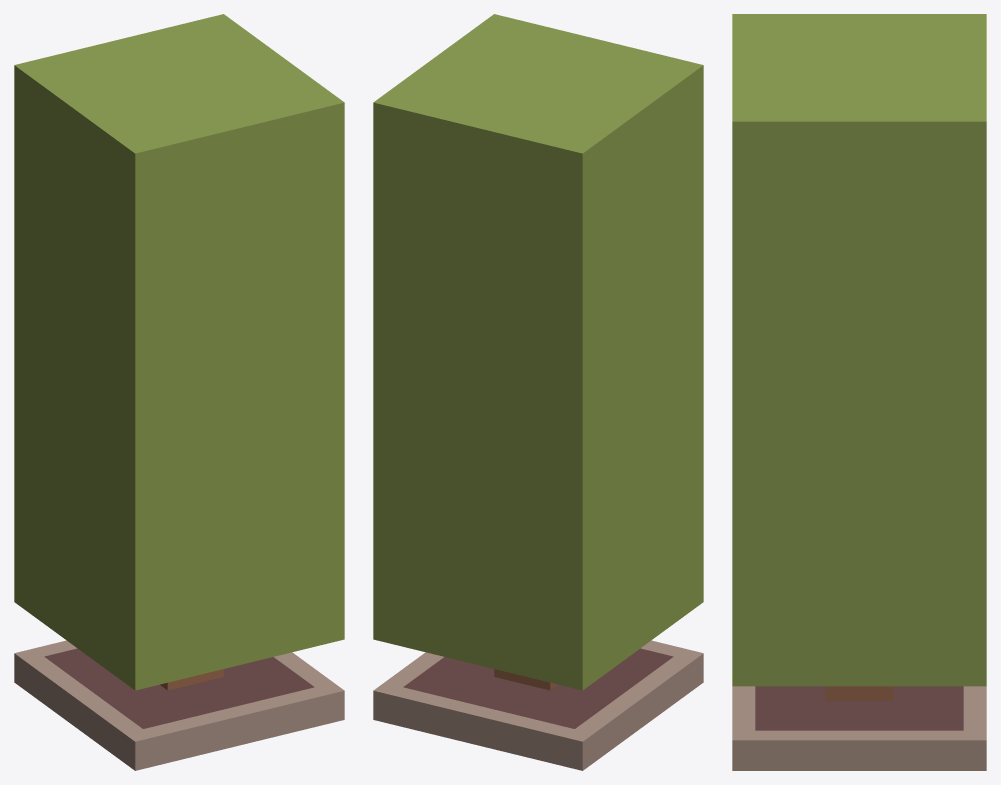
File: Tree3.fbx
The picture shows the model from 3 angles, left to right: view 1: azimuth 30°, elevation 25°; view 2: azimuth 150°, elevation 25°; view 3: azimuth 270°, elevation 25°; orthographic projection. The views are drawn at different scales.
Visible parts, largest first — view 1: Tree3; view 2: Tree3; view 3: Tree3.
Part boxes in pixels (x1,y1,x2,y2): Tree3: (14,14,344,770); Tree3: (373,14,703,770); Tree3: (732,14,986,770).
Size of the model in its own units: 2.07 by 5.83 by 2.07.
